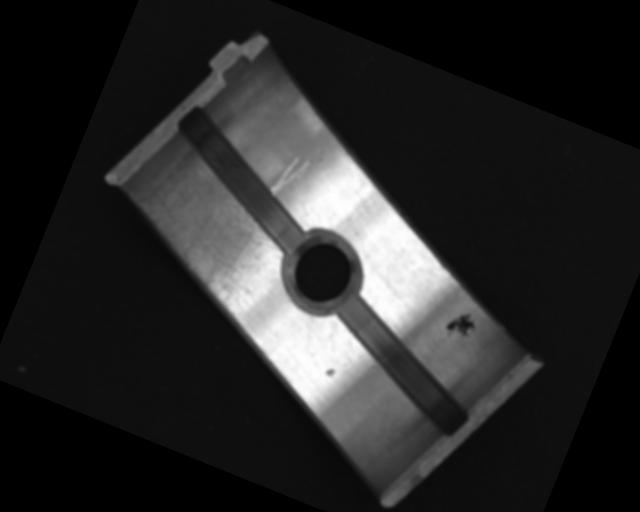blot: (441, 305, 480, 345)
bruise: (324, 366, 337, 378)
gap: (144, 97, 337, 257), (309, 290, 498, 442)
hole: (274, 227, 365, 320)
nick: (267, 148, 313, 204)
scratch: (101, 131, 304, 321)
